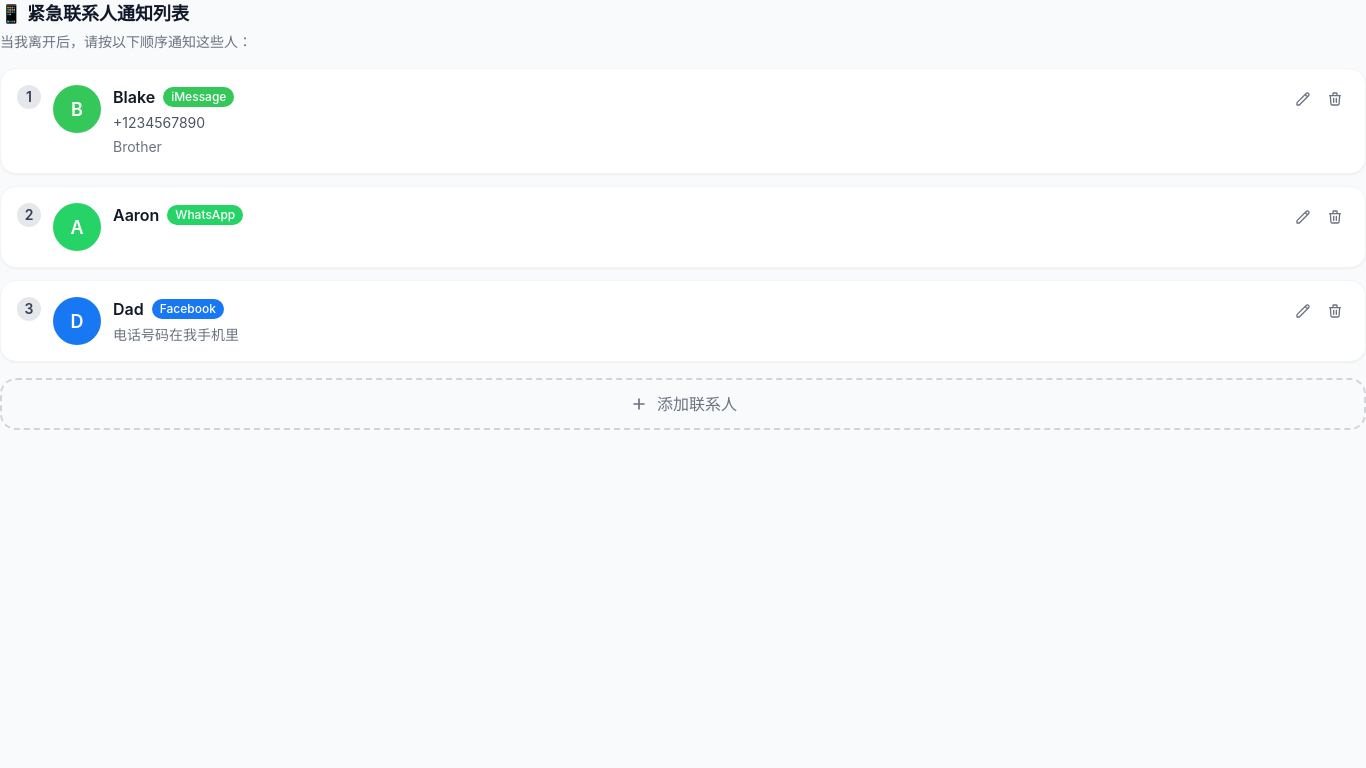
Test: ContactBubbleList › Add Contact › should hide form when cancelled
Click the button with test id "add-contact-button".
click(683, 404)  # box top-left (0, 378), bottom-right (1365, 430)
(page scrolled)
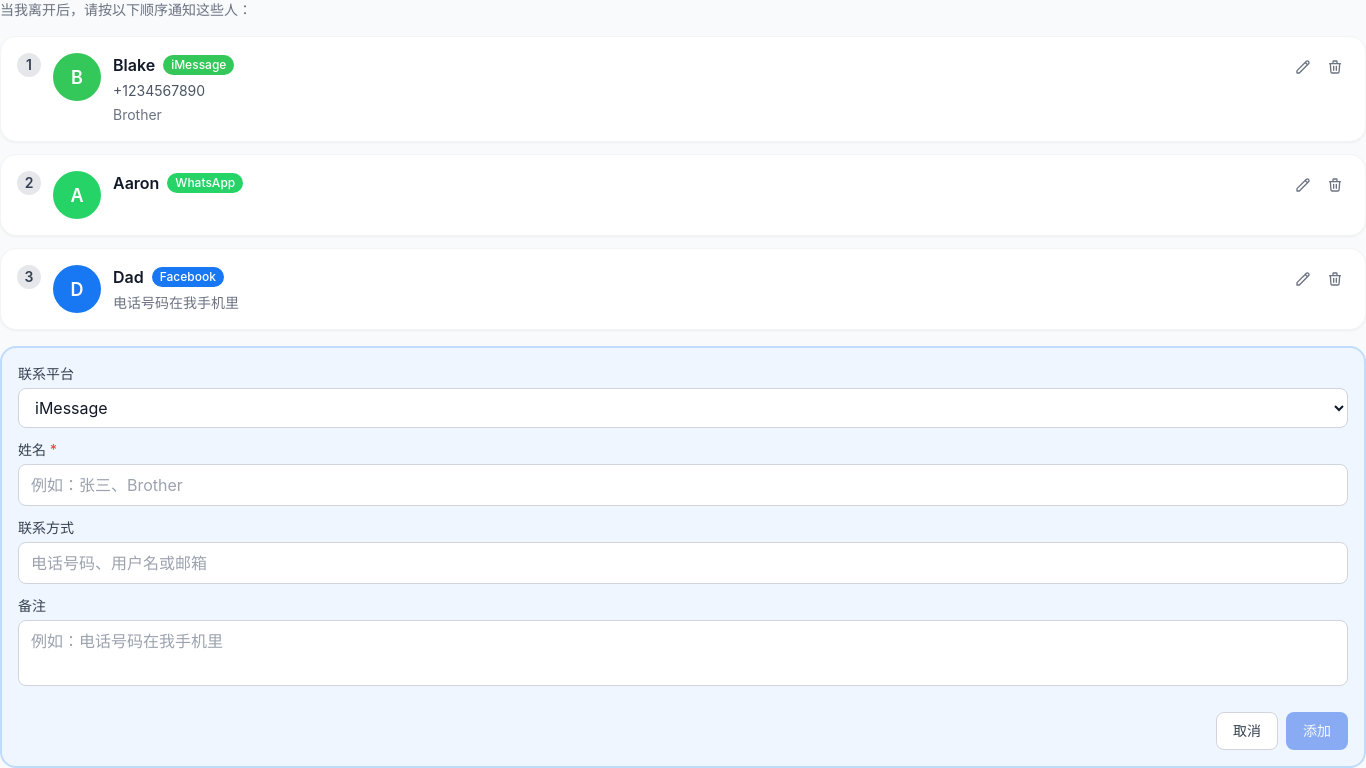
Click the button with test id "contact-cancel-button".
click(1247, 731)  # box top-left (1216, 712), bottom-right (1278, 750)
(page scrolled)
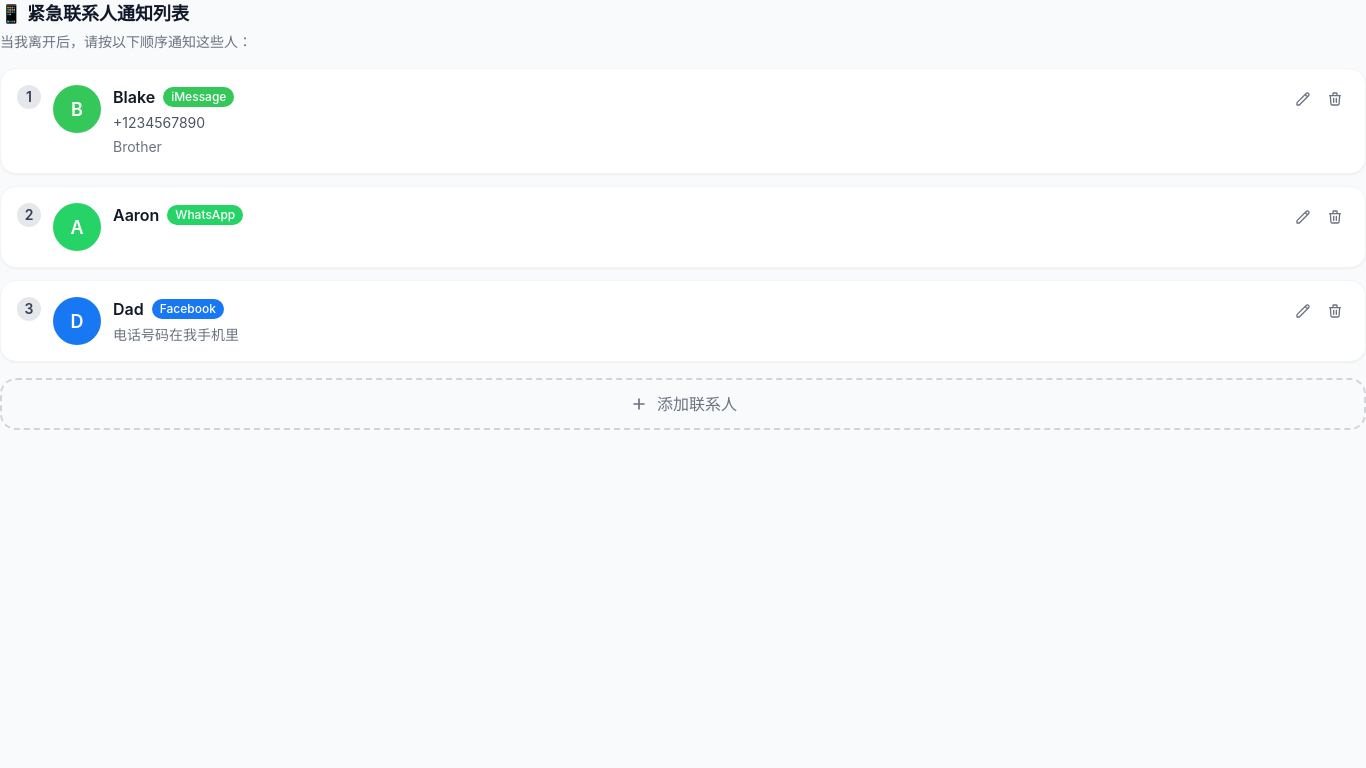
Now the form with test id "contact-bubble-form" is gone
Now the button with test id "add-contact-button" is shown, box top-left (0, 378), bottom-right (1365, 430)
